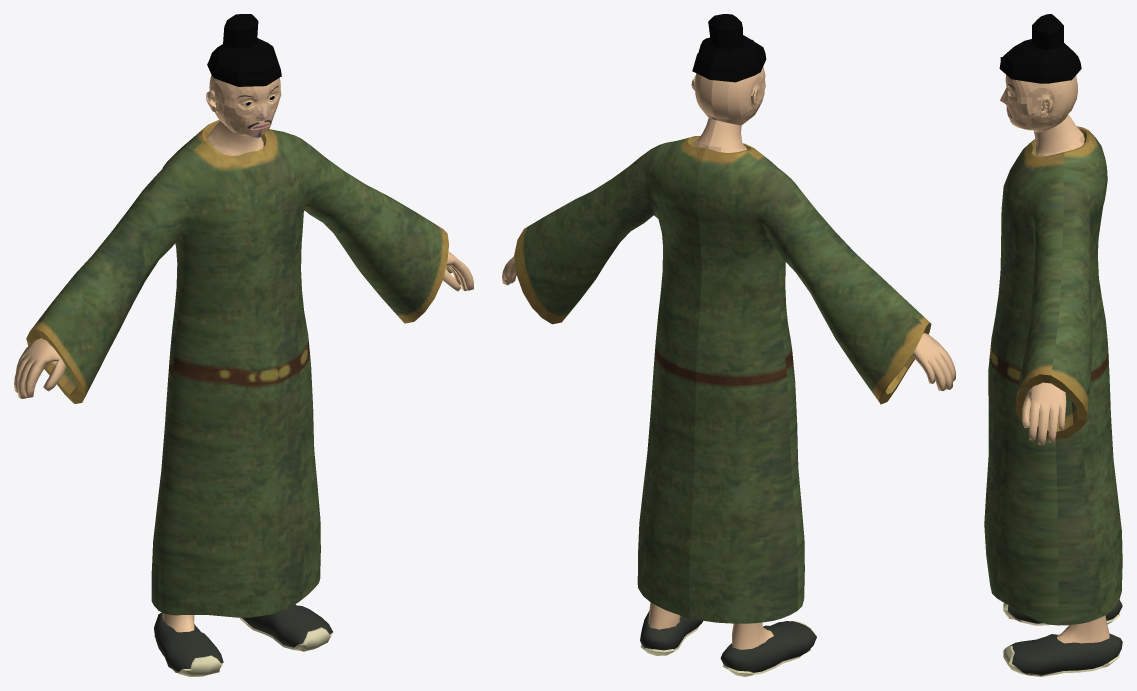
The model's file is zenhe2.fbx.
3 renders of one model, left to right at view 1: azimuth 30°, elevation 25°; view 2: azimuth 150°, elevation 25°; view 3: azimuth 270°, elevation 25°, orthographic.
Parts seen in each view (by area): view 1: polySurface5, _ear_v1:_ear_v5, pSphere1, pCube1, pCube2; view 2: polySurface5, _ear_v1:_ear_v5, pSphere1, pCube1, pCube2; view 3: polySurface5, _ear_v1:_ear_v5, pCube2, pSphere1, pCube1.
Part boxes in pixels (box(x1,y1,x2,y2)): polySurface5: box(26, 119, 448, 617); _ear_v1:_ear_v5: box(14, 75, 473, 674); pSphere1: box(207, 14, 281, 86); pCube1: box(154, 612, 223, 676); pCube2: box(240, 604, 333, 651); polySurface5: box(514, 136, 931, 623); _ear_v1:_ear_v5: box(502, 67, 955, 651); pSphere1: box(692, 14, 766, 82); pCube1: box(720, 621, 816, 676); pCube2: box(640, 611, 702, 655); polySurface5: box(984, 126, 1122, 625); _ear_v1:_ear_v5: box(1000, 75, 1109, 675); pCube2: box(1003, 634, 1122, 676); pSphere1: box(999, 14, 1081, 83); pCube1: box(1003, 600, 1122, 625).
Bounding box in the file's own units: 23.04 × 31.11 × 6.24.
